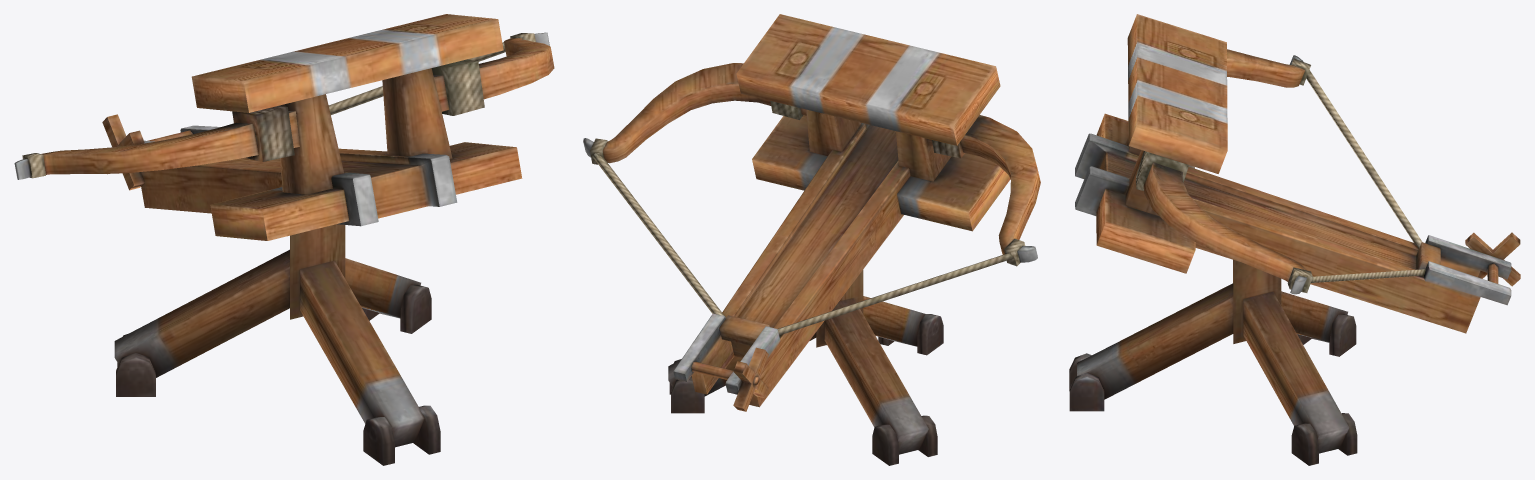
File: weapon-ironweapons.glb
The picture shows the model from 3 angles, left to right: view 1: azimuth 30°, elevation 25°; view 2: azimuth 150°, elevation 25°; view 3: azimuth 270°, elevation 25°; orthographic projection. The views are drawn at different scales.
Bounding box in the file's own units: 2.58 × 1.76 × 2.18.
1 material, 1 textured.
